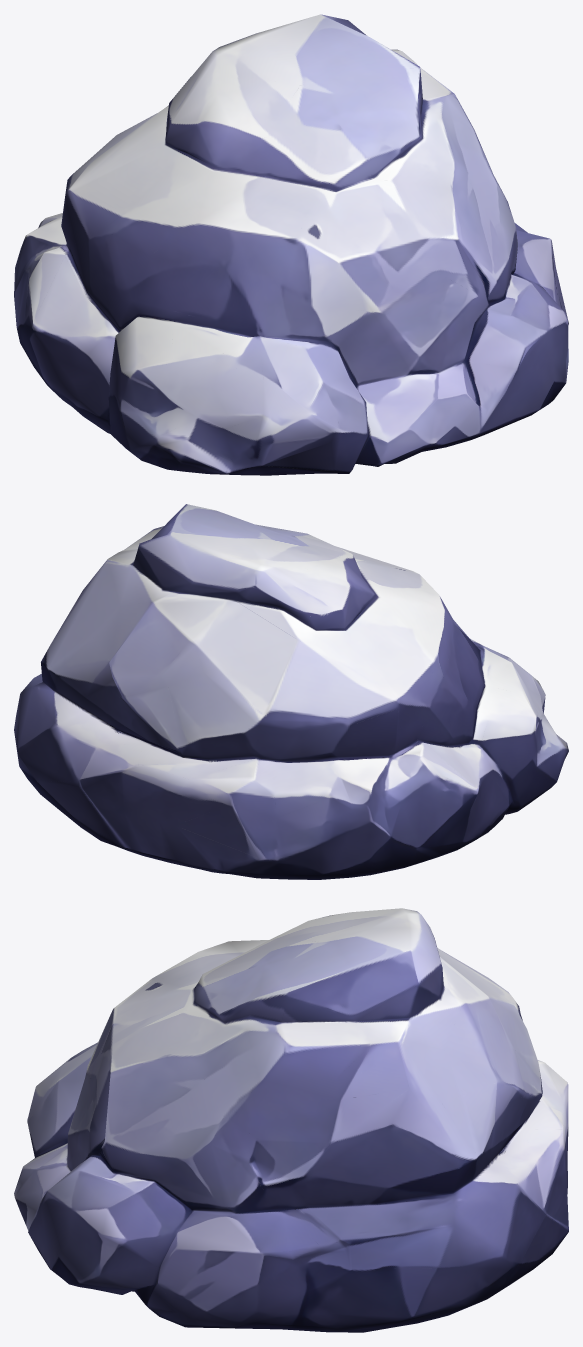
Rendered from amethyst_rock.glb.
3 renders of one model, top to bottom at view 1: azimuth 30°, elevation 25°; view 2: azimuth 150°, elevation 25°; view 3: azimuth 270°, elevation 25°, orthographic. The views are drawn at different scales.
Visible parts, largest first — view 1: geometry_0; view 2: geometry_0; view 3: geometry_0.
Boxes of the visible parts, bbox=[...] form: geometry_0: bbox=[14, 14, 568, 475]; geometry_0: bbox=[14, 504, 568, 879]; geometry_0: bbox=[14, 908, 568, 1332].
Size of the model in its own units: 0.957 by 0.5835 by 0.9258.
Materials: 1 (1 with a texture image).
